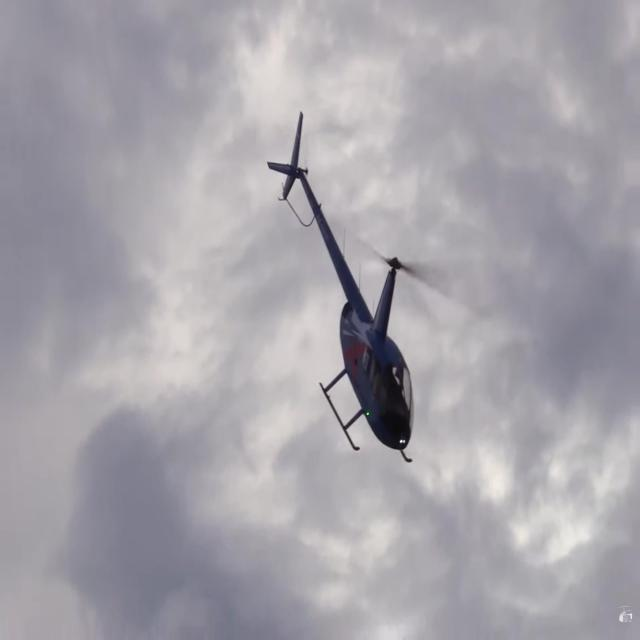CIV_HELO: (267, 110, 416, 471)
